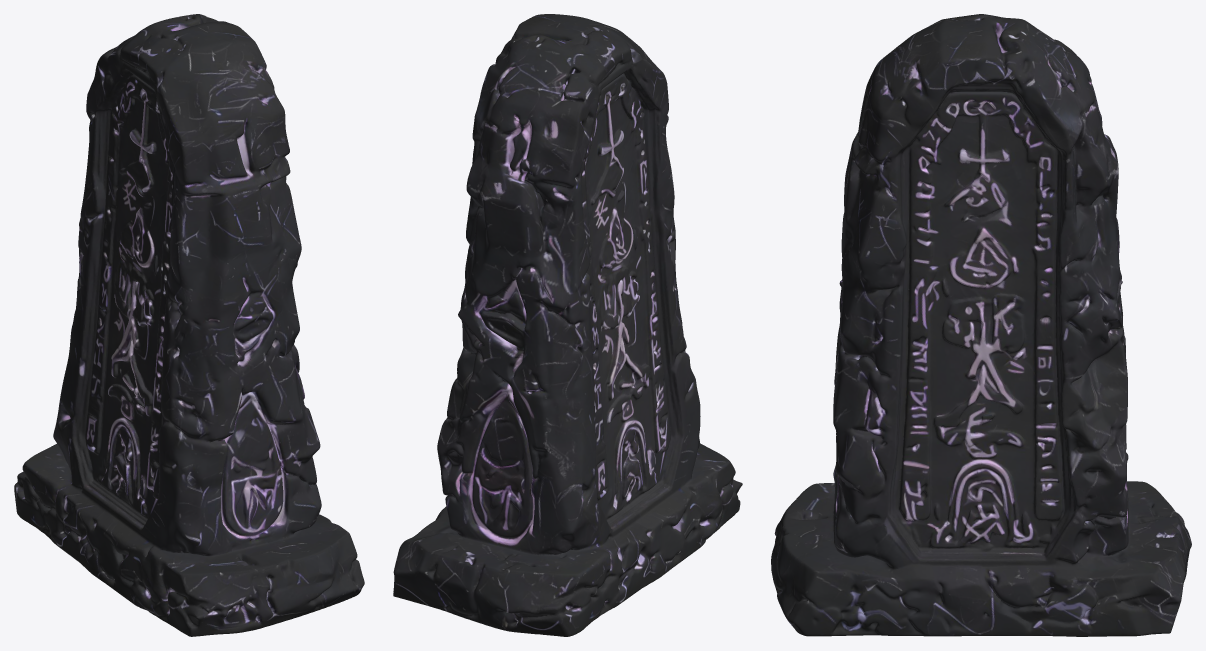
Rendered from rune_stone_altar.glb.
The picture shows the model from 3 angles, left to right: view 1: azimuth 30°, elevation 25°; view 2: azimuth 150°, elevation 25°; view 3: azimuth 270°, elevation 25°; orthographic projection. The views are drawn at different scales.
Visible parts, largest first — view 1: tripo_node_cd99a5e2-cf47-4486-9620-eeadcaccdd91; view 2: tripo_node_cd99a5e2-cf47-4486-9620-eeadcaccdd91; view 3: tripo_node_cd99a5e2-cf47-4486-9620-eeadcaccdd91.
Part boxes in pixels (x1,y1,x2,y2): tripo_node_cd99a5e2-cf47-4486-9620-eeadcaccdd91: (14, 14, 364, 636); tripo_node_cd99a5e2-cf47-4486-9620-eeadcaccdd91: (393, 14, 742, 636); tripo_node_cd99a5e2-cf47-4486-9620-eeadcaccdd91: (771, 14, 1191, 636).
Bounding box in the file's own units: 0.3709 × 1 × 0.6725.
1 material, 1 textured.
